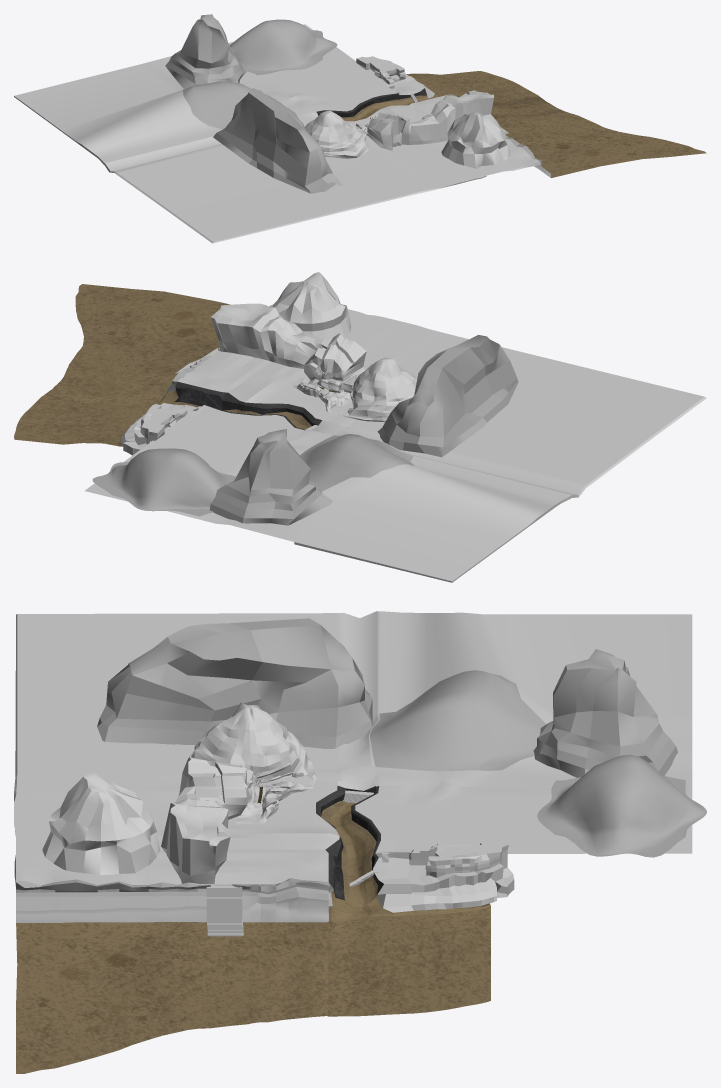
File: TerrainFixed-2ndUpdate.fbx
3 views of the same model, one above another, from view 1: azimuth 30°, elevation 25°; view 2: azimuth 150°, elevation 25°; view 3: azimuth 270°, elevation 25° (orthographic). The views are drawn at different scales.
Parts seen in each view (by area): view 1: Terrain2, beach, Mountain2, TwoMountainsHillAndStairCases_Hill, TwoMountainsHillAndStairCases_Mountain2, TwoMountainsHilAndStairCases_Mountain1, Hill, MountainMain, Mountain3rdPart, Mountain2nd, Cliff, river (+1 smaller); view 2: Terrain2, beach, Mountain2, TwoMountainsHillAndStairCases_Mountain2, TwoMountainsHillAndStairCases_Hill, Mountain3rdPart, Hill, TwoMountainsHilAndStairCases_Mountain1, MountainMain, Mountain2nd, RiverSides, Cliff (+2 smaller); view 3: Terrain2, beach, Mountain2, Hill, TwoMountainsHillAndStairCases_Hill, BeachCliff, TwoMountainsHillAndStairCases_Mountain2, TwoMountainsHilAndStairCases_Mountain1, Cliff, MountainMain, Mountain3rdPart, river (+5 smaller).
Part boxes in pixels (box(x1,y1,x2,y2)): Terrain2: box(14, 24, 540, 243); beach: box(406, 71, 706, 177); Mountain2: box(213, 88, 342, 193); TwoMountainsHillAndStairCases_Hill: box(229, 19, 337, 75); TwoMountainsHillAndStairCases_Mountain2: box(165, 14, 247, 88); TwoMountainsHilAndStairCases_Mountain1: box(441, 112, 509, 168); Hill: box(182, 81, 284, 129); MountainMain: box(305, 110, 368, 158); Mountain3rdPart: box(418, 90, 493, 143); Mountain2nd: box(366, 111, 432, 150); Cliff: box(356, 56, 434, 98); river: box(341, 93, 440, 121); Terrain2: box(84, 309, 706, 582); beach: box(14, 284, 229, 446); Mountain2: box(377, 335, 518, 457); TwoMountainsHillAndStairCases_Mountain2: box(209, 429, 332, 525); TwoMountainsHillAndStairCases_Hill: box(92, 448, 235, 516); Mountain3rdPart: box(210, 303, 315, 367); Hill: box(300, 434, 414, 491); TwoMountainsHilAndStairCases_Mountain1: box(272, 272, 351, 340); MountainMain: box(339, 357, 417, 422); Mountain2nd: box(293, 333, 366, 380); RiverSides: box(175, 381, 321, 430); Cliff: box(120, 403, 196, 455); Terrain2: box(14, 611, 692, 885); beach: box(16, 906, 490, 1073); Mountain2: box(97, 618, 372, 748); Hill: box(370, 670, 546, 771); TwoMountainsHillAndStairCases_Hill: box(537, 754, 706, 857); BeachCliff: box(16, 878, 333, 922); TwoMountainsHillAndStairCases_Mountain2: box(533, 649, 677, 777); TwoMountainsHilAndStairCases_Mountain1: box(42, 772, 159, 875); Cliff: box(373, 840, 514, 912); MountainMain: box(188, 702, 316, 783); Mountain3rdPart: box(161, 794, 230, 883); river: box(321, 800, 490, 921).
Size of the model in its own units: 34309 by 5937 by 24572.
